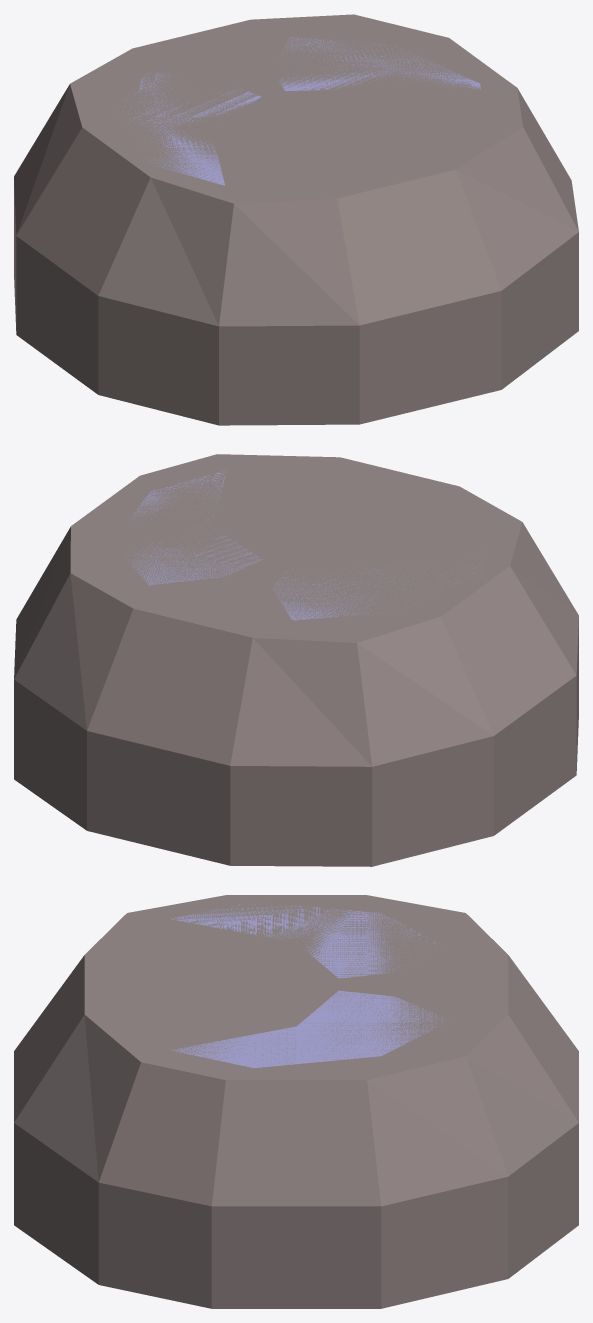
Rendered from inv_soul_rune.obj.
The picture shows the model from 3 angles, top to bottom: view 1: azimuth 30°, elevation 25°; view 2: azimuth 150°, elevation 25°; view 3: azimuth 270°, elevation 25°; orthographic projection. The views are drawn at different scales.
Size of the model in its own units: 0.3125 by 0.125 by 0.3125.
